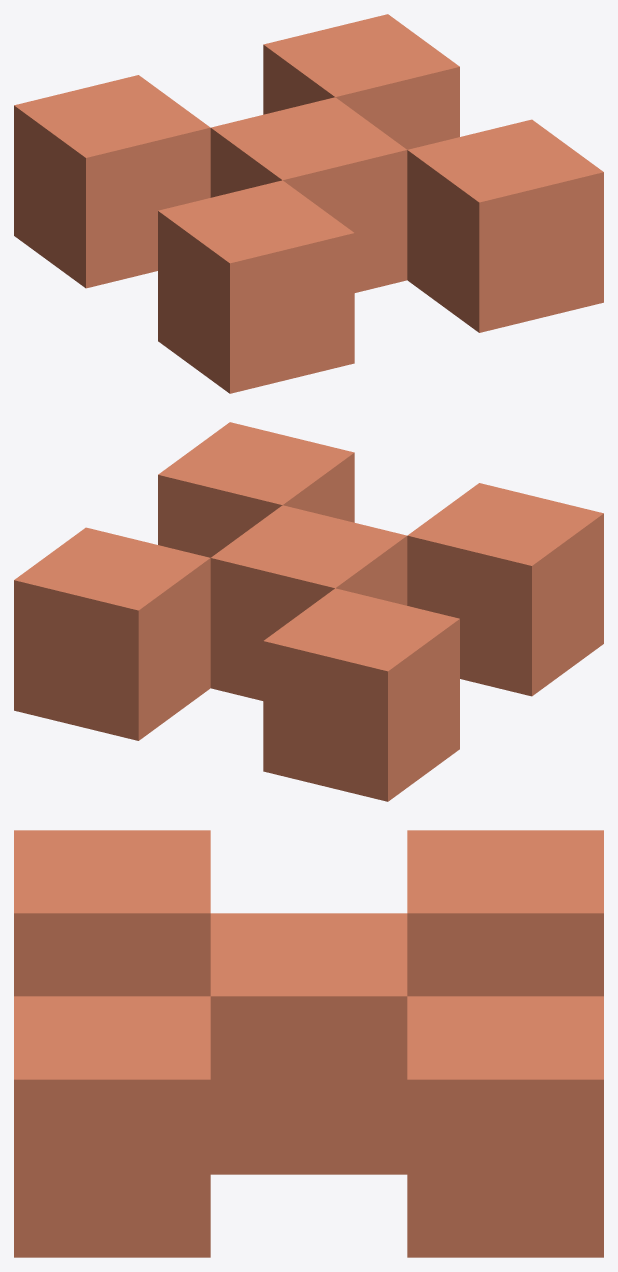
The model's file is eProjectile5.obj.
3 renders of one model, top to bottom at view 1: azimuth 30°, elevation 25°; view 2: azimuth 150°, elevation 25°; view 3: azimuth 270°, elevation 25°, orthographic. The views are drawn at different scales.
Size of the model in its own units: 3 by 1 by 3.
1 material, 1 textured.
